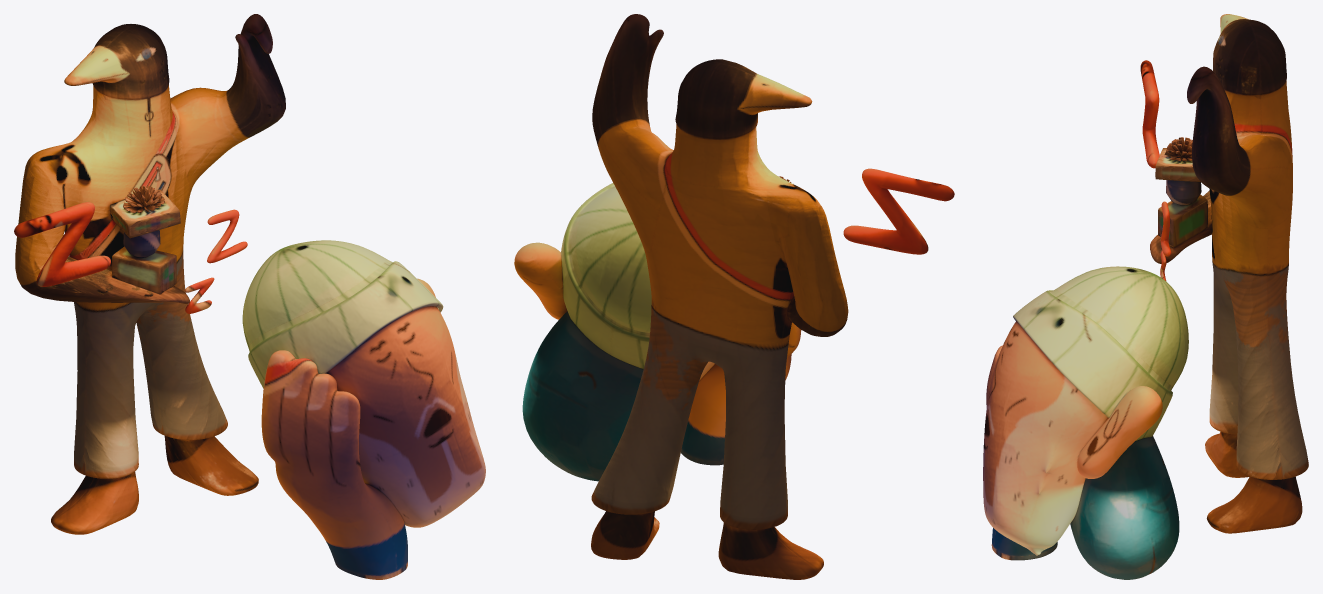
File: birdmanSleeperBaked_512_v003C.glb
3 renders of one model, left to right at view 1: azimuth 30°, elevation 25°; view 2: azimuth 150°, elevation 25°; view 3: azimuth 270°, elevation 25°, orthographic. The views are drawn at different scales.
Parts seen in each view (by area): view 1: birdman_v09, sleeperman_v022_smooth1; view 2: birdman_v09, sleeperman_v022_smooth1; view 3: sleeperman_v022_smooth1, birdman_v09.
Boxes of the visible parts, box(x1,y1,x2,y2) form: birdman_v09: box(15, 14, 285, 534); sleeperman_v022_smooth1: box(14, 202, 485, 579); birdman_v09: box(591, 14, 848, 579); sleeperman_v022_smooth1: box(514, 168, 954, 481); sleeperman_v022_smooth1: box(983, 60, 1188, 579); birdman_v09: box(1150, 14, 1308, 533).
Size of the model in its own units: 0.2604 by 0.2913 by 0.1829.
Materials: 2 (2 with a texture image).
